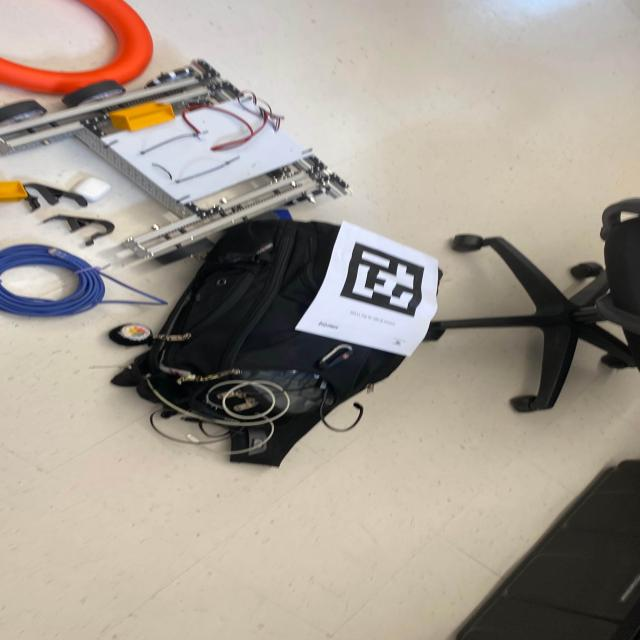blue-specimen: (275, 209, 291, 218)
yellow-specimen: (109, 102, 174, 131), (0, 181, 28, 202)
